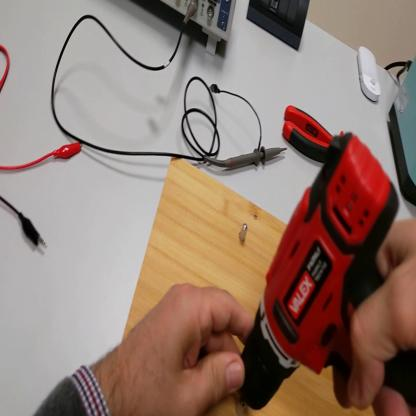electric screwdriver: (237, 131, 416, 416)
hand: (118, 282, 254, 414), (333, 216, 416, 416)
oscilloscope: (165, 2, 239, 59)
oscilloscope probe tip: (216, 145, 289, 170)
pliers: (284, 101, 345, 165)
welder station: (388, 54, 416, 208)
working area: (123, 159, 374, 416)
